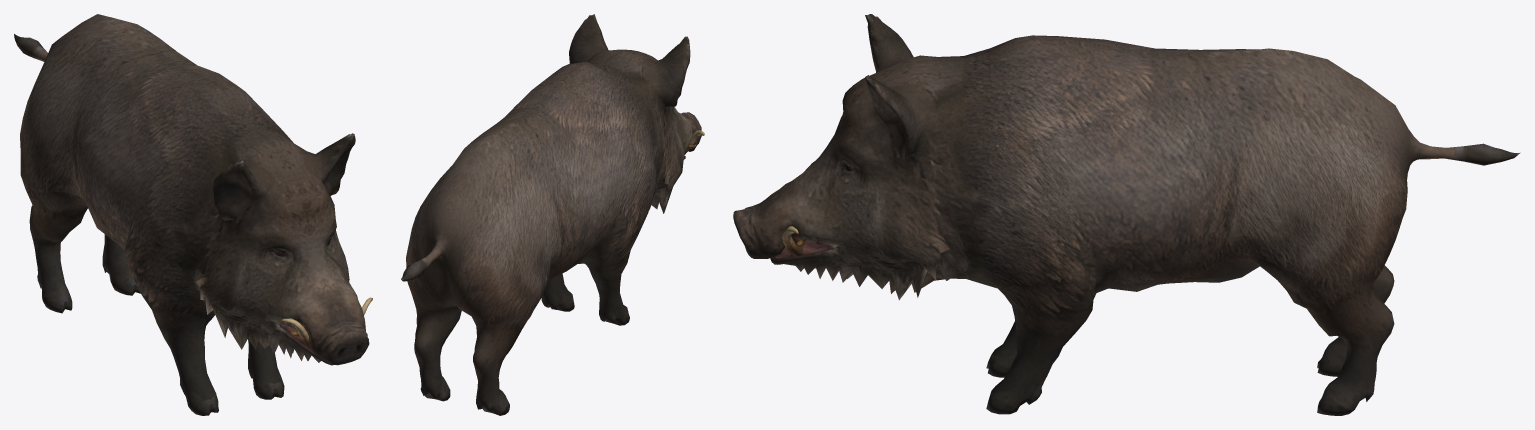
Rendered from boar.glb.
3 renders of one model, left to right at view 1: azimuth 30°, elevation 25°; view 2: azimuth 150°, elevation 25°; view 3: azimuth 270°, elevation 25°, orthographic. The views are drawn at different scales.
Parts seen in each view (by area): view 1: sm_1_0_0_1, sm_2_0_0_0; view 2: sm_1_0_0_1; view 3: sm_1_0_0_1, sm_2_0_0_0.
Boxes of the visible parts, box(x1,y1,x2,y2) form: sm_1_0_0_1: box(14, 14, 369, 415); sm_2_0_0_0: box(275, 240, 372, 348); sm_1_0_0_1: box(401, 14, 701, 415); sm_1_0_0_1: box(733, 14, 1520, 415); sm_2_0_0_0: box(773, 165, 854, 258).
Size of the model in its own units: 0.51 by 0.9429 by 1.9.
2 materials, 2 textured.
